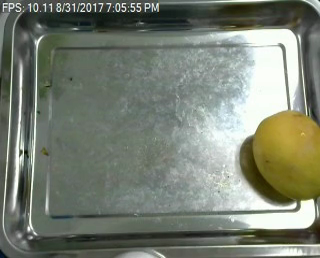Mango: (252, 108, 320, 197)
